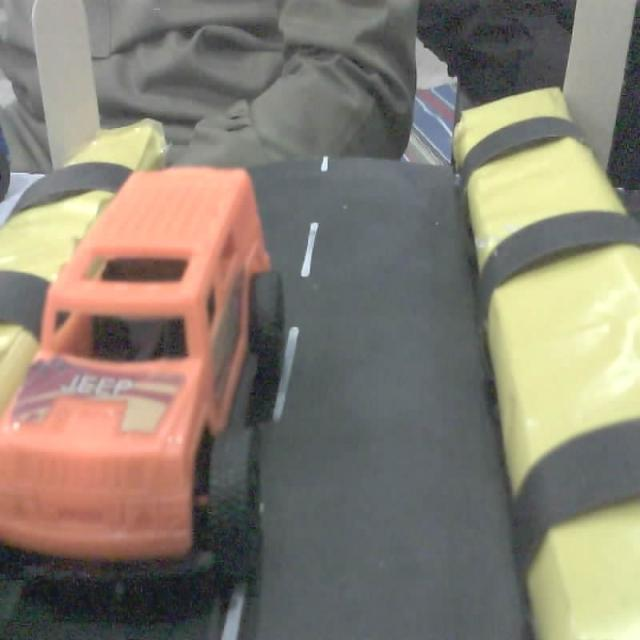OneCar: (0, 172, 298, 604)
